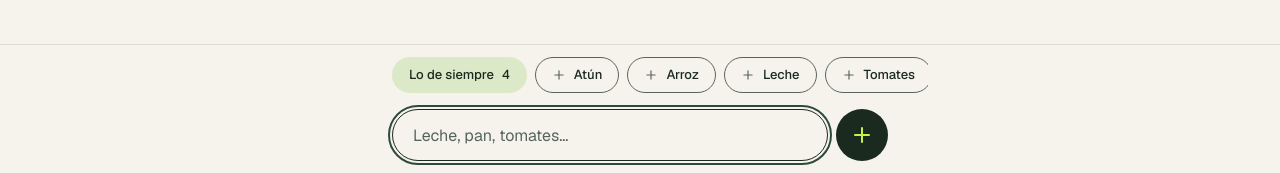
Scenario: the frequents row › a rejected tap says so and puts nothing back in the field
Step 1. Click the button "Leche" → click(770, 75), box [724,57,817,93]
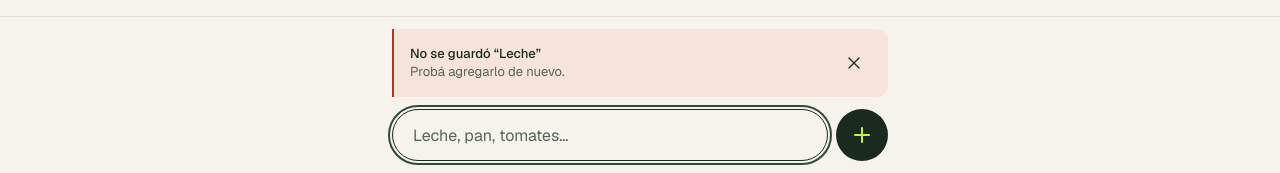
Check: the dropdown named "Producto para agregar" is empty, box [392,109,828,161]
Check: the message shows "Probá agregarlo de nuevo.", box [410,63,565,80]
